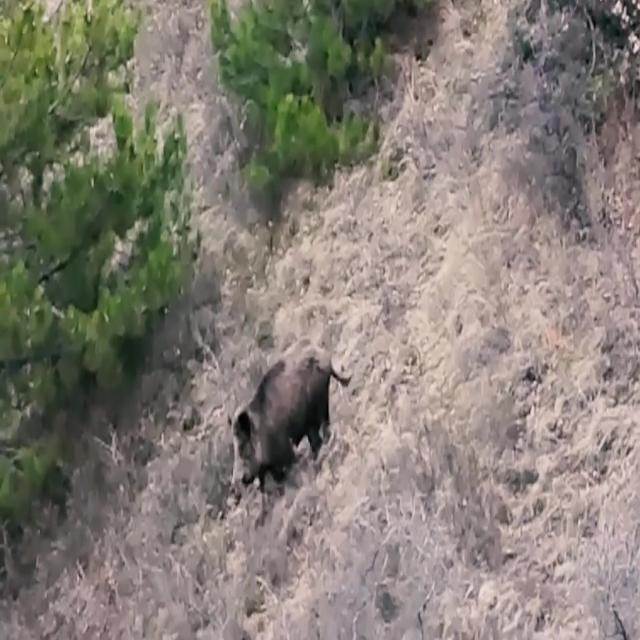pig: (228, 333, 358, 519)
